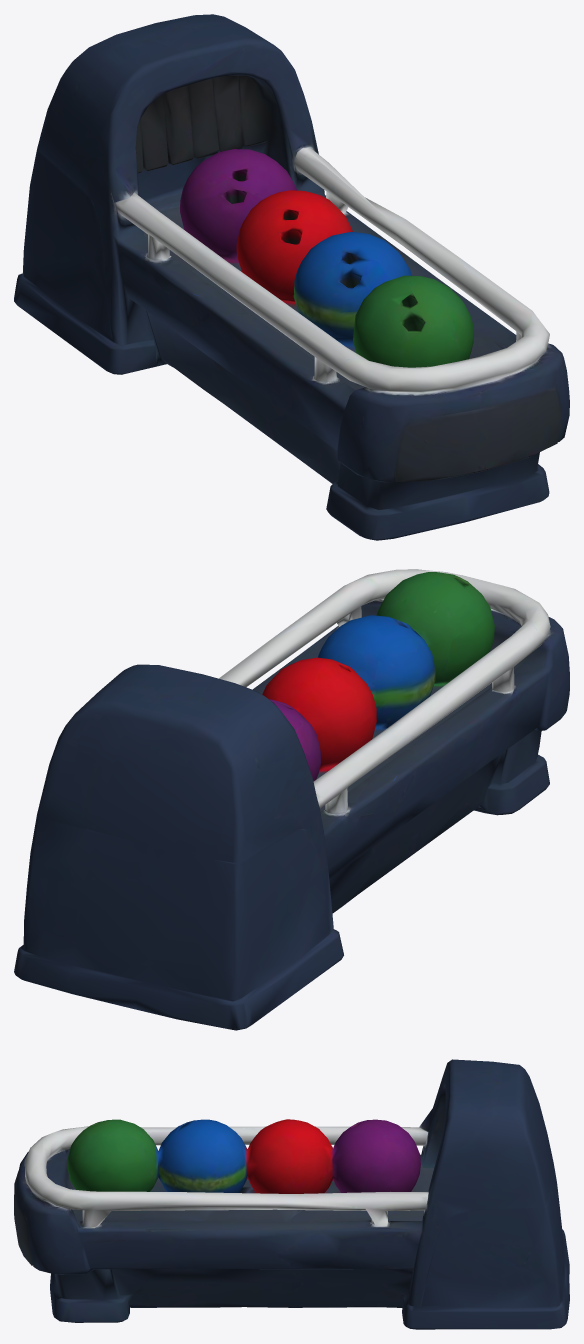
The model's file is rack.glb.
The picture shows the model from 3 angles, top to bottom: view 1: azimuth 30°, elevation 25°; view 2: azimuth 150°, elevation 25°; view 3: azimuth 270°, elevation 25°; orthographic projection. The views are drawn at different scales.
Visible parts, largest first — view 1: tripo_node_0994ba8f-4a26-4b41-a12a-2f0e6a3d3eda; view 2: tripo_node_0994ba8f-4a26-4b41-a12a-2f0e6a3d3eda; view 3: tripo_node_0994ba8f-4a26-4b41-a12a-2f0e6a3d3eda.
Part boxes in pixels (<box>): tripo_node_0994ba8f-4a26-4b41-a12a-2f0e6a3d3eda: <box>14,14,569,540</box>; tripo_node_0994ba8f-4a26-4b41-a12a-2f0e6a3d3eda: <box>14,569,569,1030</box>; tripo_node_0994ba8f-4a26-4b41-a12a-2f0e6a3d3eda: <box>14,1059,569,1329</box>.
Bounding box in the file's own units: 0.3625 × 0.4115 × 0.9791.
Materials: 1 (1 with a texture image).
